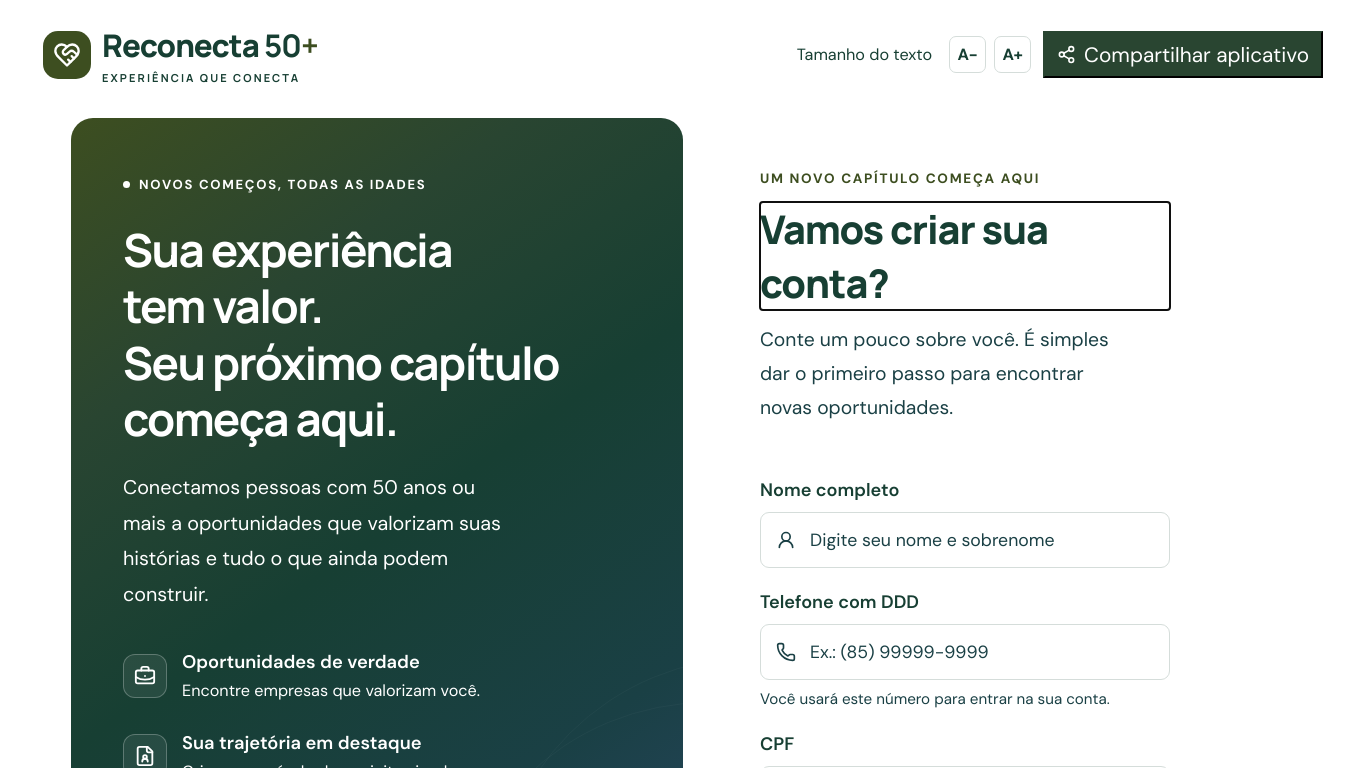
Test: conecta o formulário de cadastro e entra no painel com a sessão criada pelo backend
Type "Ana Souza" into the field labelled "Nome completo".
click(981, 540); type("Ana Souza")  # box top-left (808, 512), bottom-right (1154, 566)
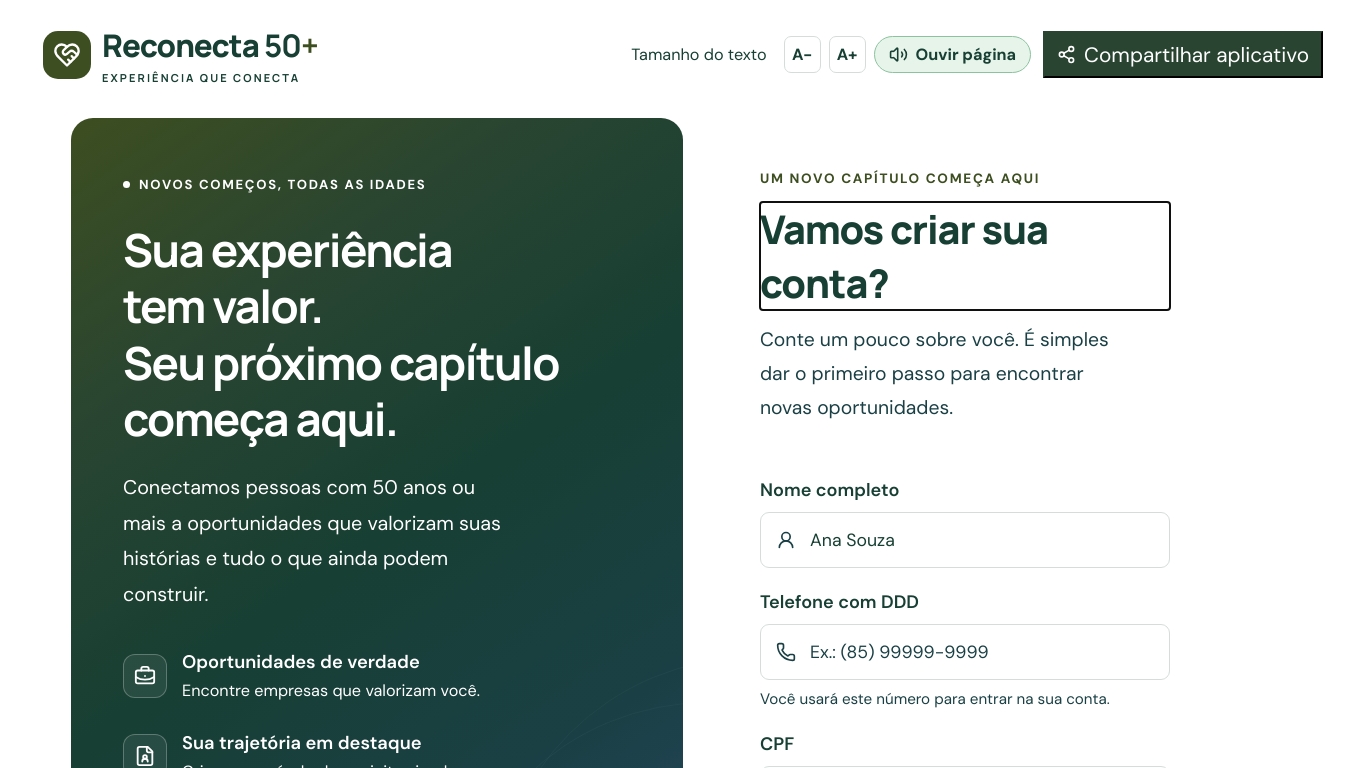
Type "85999999999" into the field labelled "Telefone com DDD".
click(981, 652); type("85999999999")  # box top-left (808, 624), bottom-right (1154, 678)
(page scrolled)
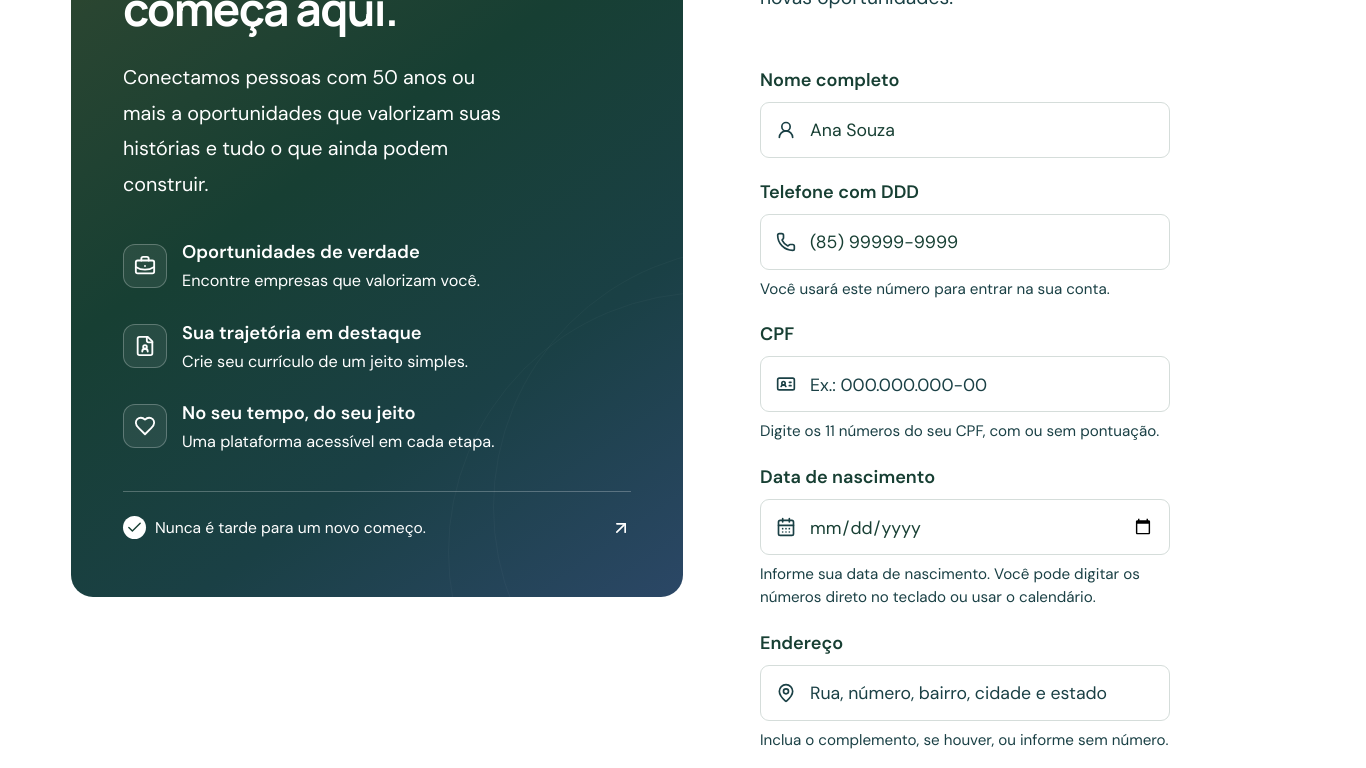
Type "52998224725" into the field labelled "CPF".
click(981, 384); type("52998224725")  # box top-left (808, 357), bottom-right (1154, 411)
Type "1970-01-01" into the date field labelled "Data de nascimento".
click(981, 527); type("1970-01-01")  # box top-left (808, 500), bottom-right (1154, 554)
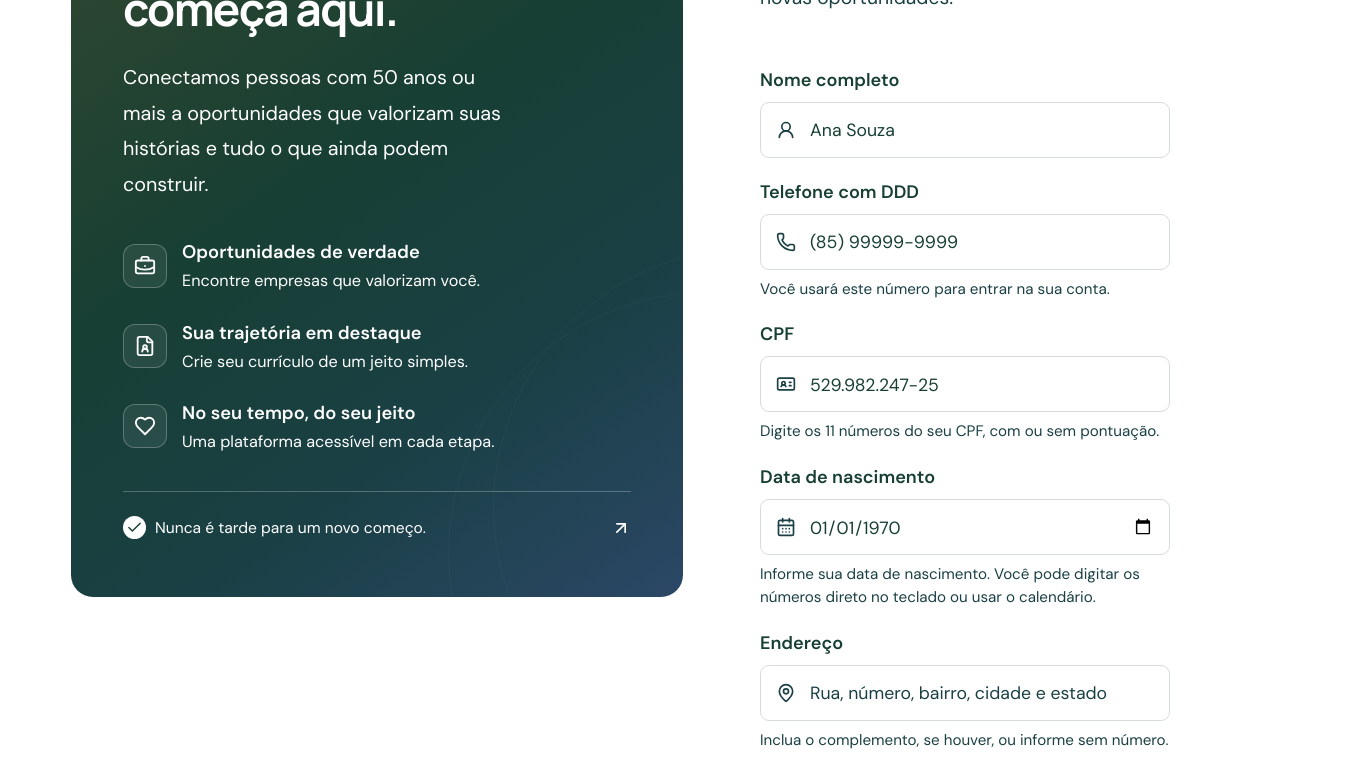
Type "Rua das Flores, 10" into the field labelled "Endereço".
click(981, 693); type("Rua das Flores, 10")  # box top-left (808, 666), bottom-right (1154, 720)
(page scrolled)
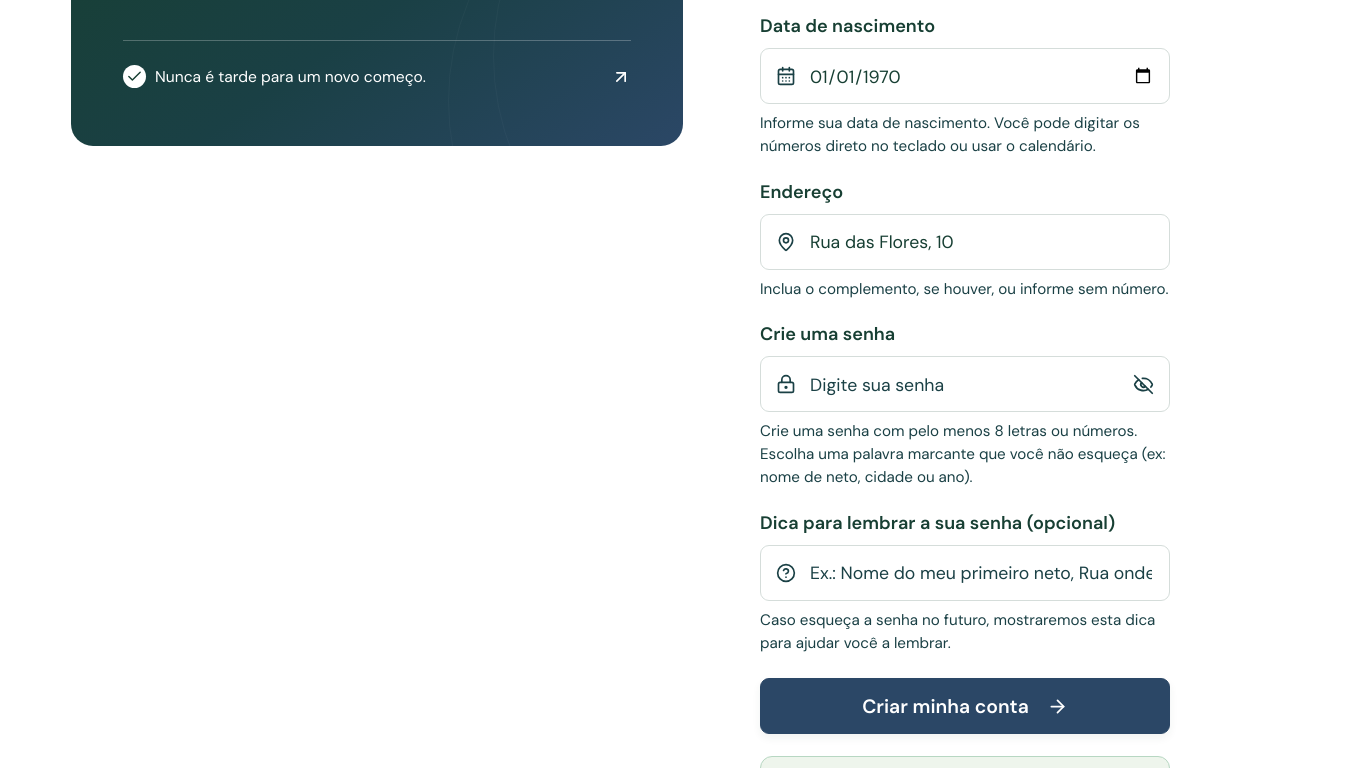
Type "minha senha" into the field labelled "Crie uma senha".
click(960, 384); type("minha senha")  # box top-left (808, 357), bottom-right (1112, 411)
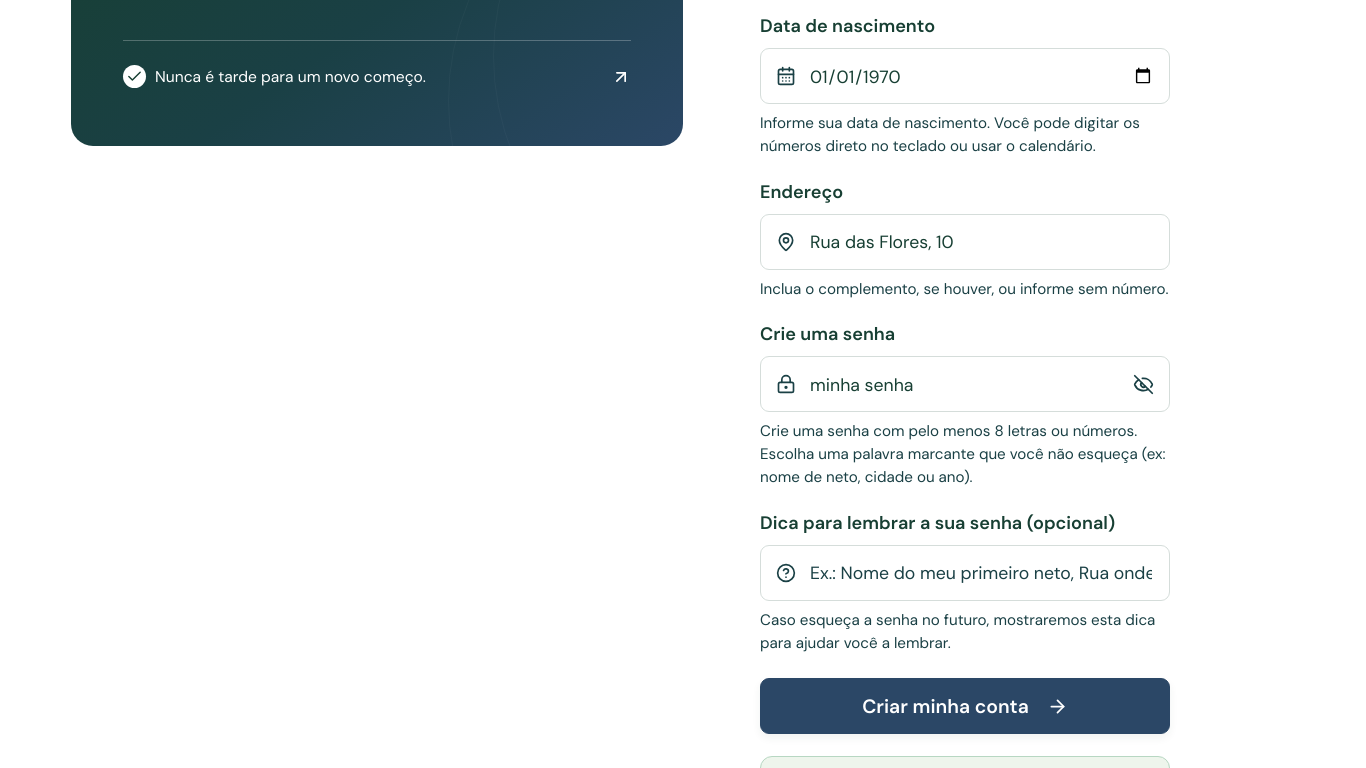
Click the button "Criar minha conta".
click(965, 706)  # box top-left (760, 678), bottom-right (1170, 734)
(page scrolled)
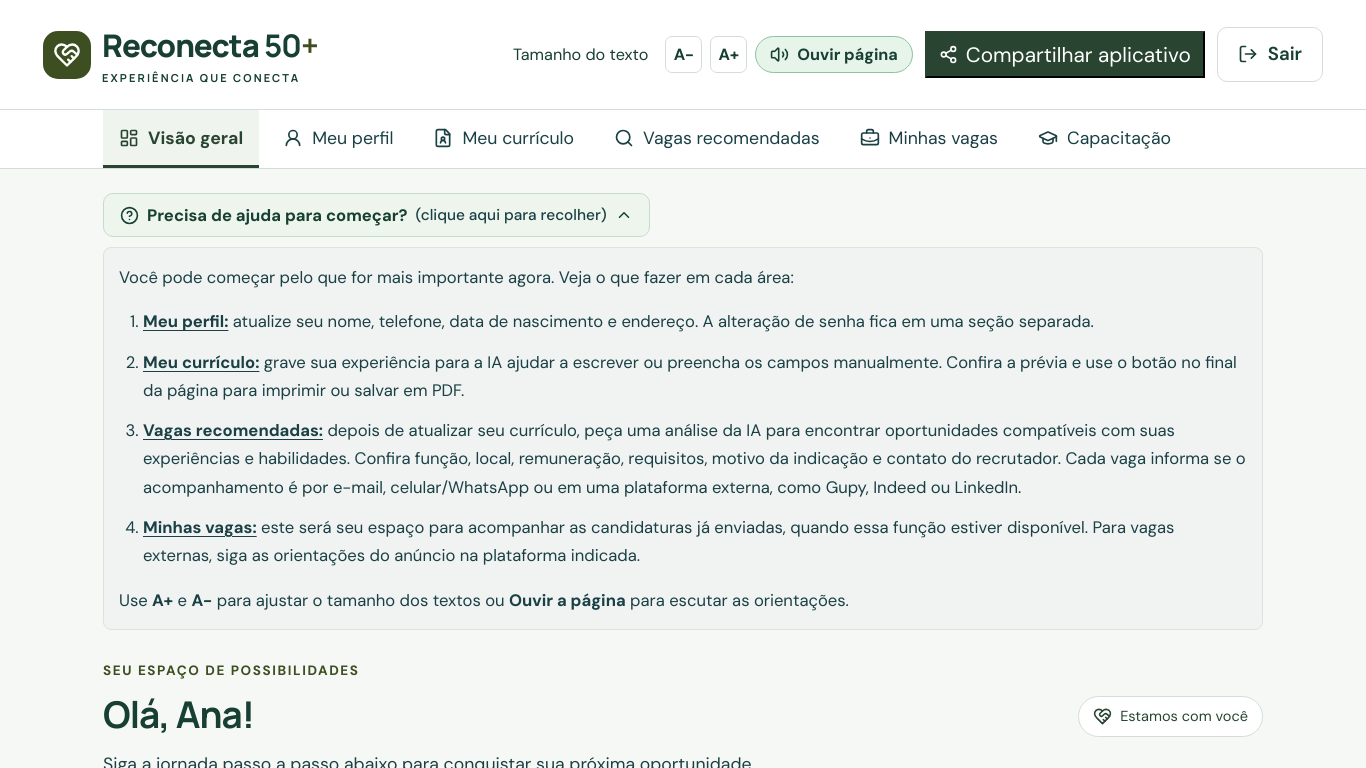
Expected: the button "Sair" is shown, top-left (1217, 28), bottom-right (1323, 82)
